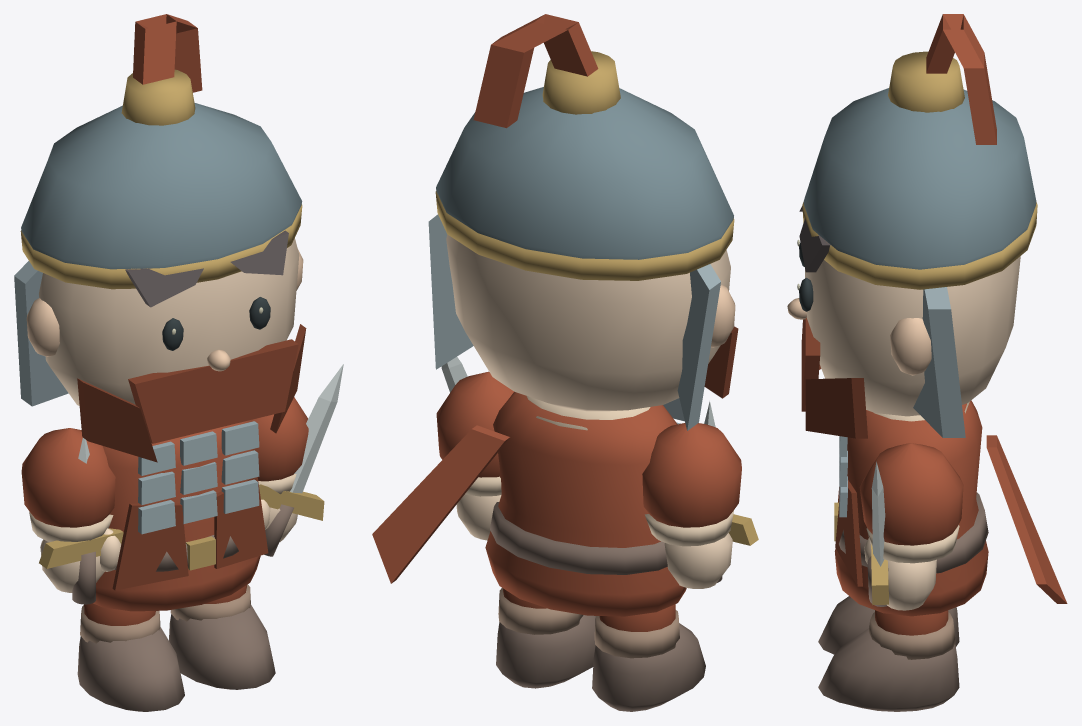
File: assassin.glb
3 views of the same model, side by side, from view 1: azimuth 30°, elevation 25°; view 2: azimuth 150°, elevation 25°; view 3: azimuth 270°, elevation 25° (orthographic). The views are drawn at different scales.
Visible parts, largest first — view 1: Regional helmet, Soft cheek head, Soft face mask, Short folded tunic, Puff sleeve, Round leather boot, Round leather boot.001, Red silk tassel, Coat fold, Helmet brow band, Hood cheek cowl, Han side guard (+30 smaller); view 2: Regional helmet, Soft cheek head, Short folded tunic, Puff sleeve, Long scarf tail, Red silk tassel, Helmet brow band, Round leather boot, Round leather boot.001, Broad leather belt, Han side guard, Puff sleeve.001 (+12 smaller); view 3: Regional helmet, Soft cheek head, Short folded tunic, Puff sleeve.001, Round leather boot.001, Han side guard.001, Helmet brow band, Red silk tassel, Hood cheek cowl R, Top knot socket, Long scarf tail, Little mitten.001 (+11 smaller).
Part boxes in pixels (x1,y1,x2,y2): Regional helmet: [21, 103, 302, 269]; Soft cheek head: [39, 238, 299, 405]; Soft face mask: [128, 339, 298, 443]; Short folded tunic: [93, 420, 260, 611]; Puff sleeve: [21, 428, 115, 527]; Round leather boot: [77, 626, 184, 711]; Round leather boot.001: [169, 604, 275, 689]; Red silk tassel: [133, 14, 202, 92]; Coat fold: [112, 503, 188, 590]; Helmet brow band: [20, 204, 302, 289]; Hood cheek cowl: [77, 378, 157, 462]; Han side guard: [14, 261, 68, 406]; Regional helmet: [436, 87, 733, 259]; Soft cheek head: [446, 234, 730, 411]; Short folded tunic: [485, 391, 686, 616]; Puff sleeve: [642, 423, 741, 527]; Long scarf tail: [372, 425, 509, 583]; Red silk tassel: [473, 14, 598, 128]; Helmet brow band: [435, 191, 734, 280]; Round leather boot: [592, 623, 705, 711]; Round leather boot.001: [496, 615, 595, 688]; Broad leather belt: [490, 502, 667, 574]; Han side guard: [677, 264, 720, 430]; Puff sleeve.001: [436, 371, 513, 477]; Regional helmet: [803, 88, 1036, 269]; Soft cheek head: [805, 256, 1020, 416]; Short folded tunic: [834, 400, 988, 616]; Puff sleeve.001: [859, 443, 963, 545]; Round leather boot.001: [818, 628, 959, 711]; Han side guard.001: [913, 287, 965, 437]; Helmet brow band: [802, 202, 1037, 289]; Red silk tassel: [926, 14, 996, 144]; Hood cheek cowl R: [805, 378, 867, 438]; Top knot socket: [888, 51, 964, 112]; Long scarf tail: [986, 435, 1067, 603]; Little mitten.001: [887, 559, 936, 610].
Bounding box in the file's own units: 0.8627 × 1.75 × 0.674.
